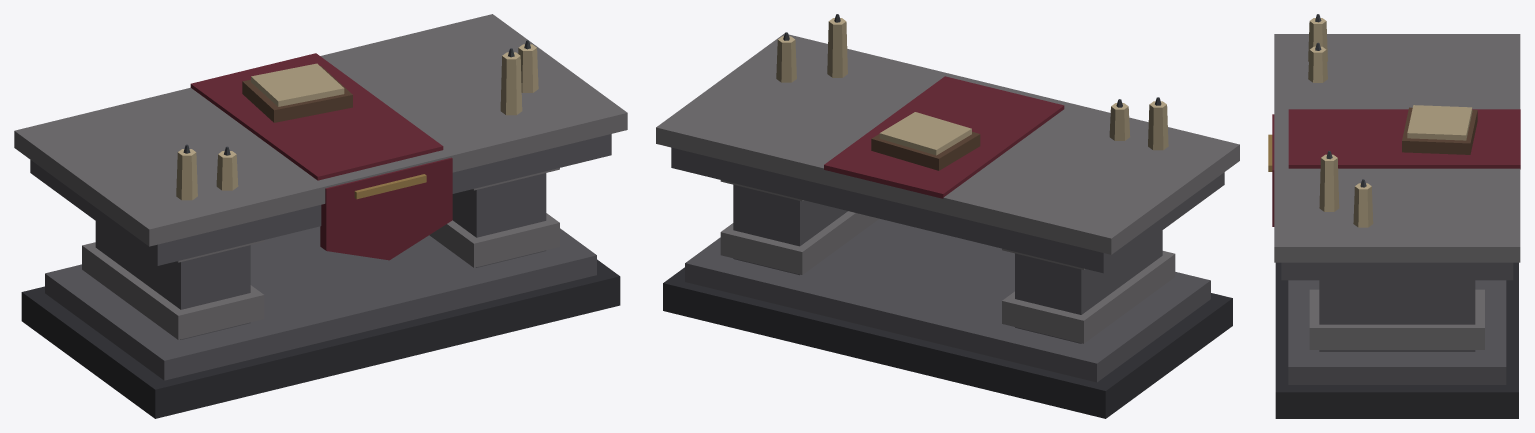
Rendered from votive-altar.glb.
3 views of the same model, side by side, from view 1: azimuth 30°, elevation 25°; view 2: azimuth 150°, elevation 25°; view 3: azimuth 270°, elevation 25° (orthographic). The views are drawn at different scales.
Parts seen in each view (by area): view 1: Crimson votive altar; view 2: Crimson votive altar; view 3: Crimson votive altar.
Part boxes in pixels (<box>): Crimson votive altar: <box>14,14,627,418</box>; Crimson votive altar: <box>656,14,1239,418</box>; Crimson votive altar: <box>1268,14,1520,418</box>.
Size of the model in its own units: 1.78 by 0.905 by 0.892.
